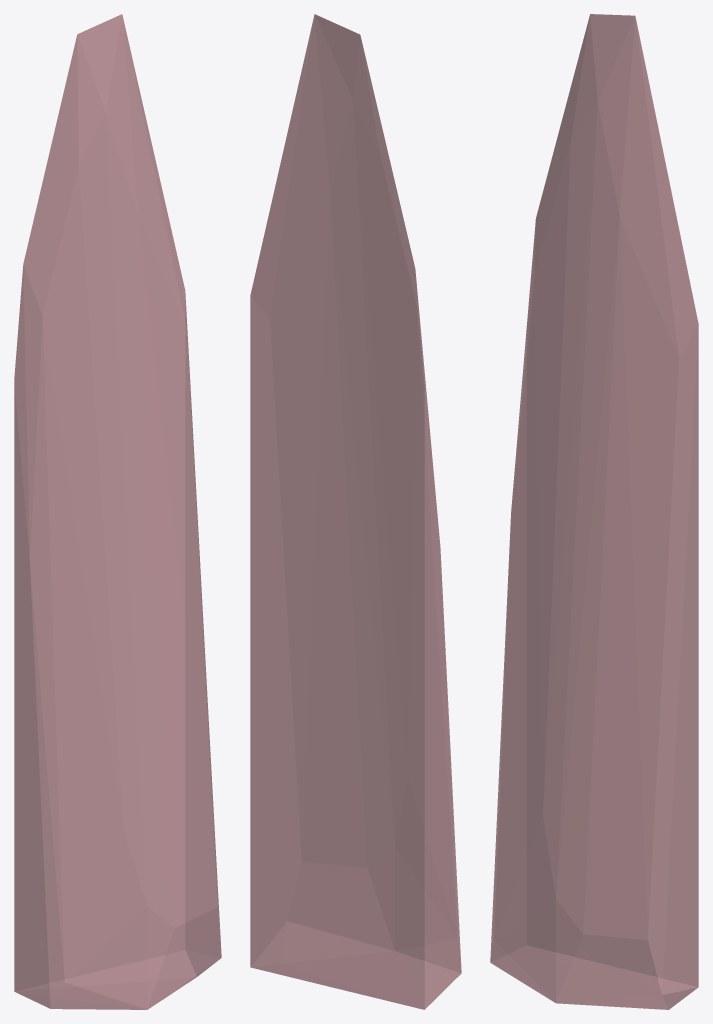
The picture shows the model from 3 angles, left to right: view 1: azimuth 30°, elevation 25°; view 2: azimuth 150°, elevation 25°; view 3: azimuth 330°, elevation 25°; orthographic projection.
Parts seen in each view (by area): view 1: Shape_IndexedFaceSet.004_Shape_IndexedFaceSet.15625; view 2: Shape_IndexedFaceSet.004_Shape_IndexedFaceSet.15625; view 3: Shape_IndexedFaceSet.004_Shape_IndexedFaceSet.15625.
Part boxes in pixels (left/top/right/bottom): Shape_IndexedFaceSet.004_Shape_IndexedFaceSet.15625: left=14, top=14, right=221, bottom=1009; Shape_IndexedFaceSet.004_Shape_IndexedFaceSet.15625: left=250, top=14, right=461, bottom=1009; Shape_IndexedFaceSet.004_Shape_IndexedFaceSet.15625: left=490, top=14, right=698, bottom=1009.
Size of the model in its own units: 0.0181 by 0.0973 by 0.00954.
